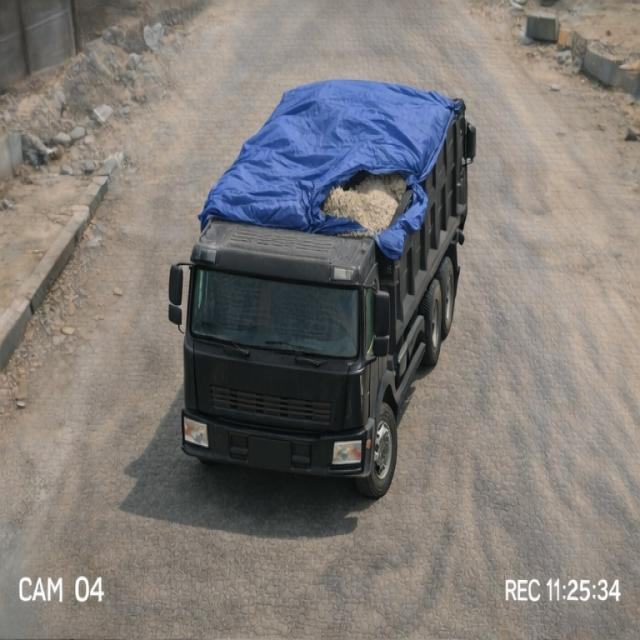trailer: (216, 79, 462, 223)
truck: (168, 69, 480, 494)
